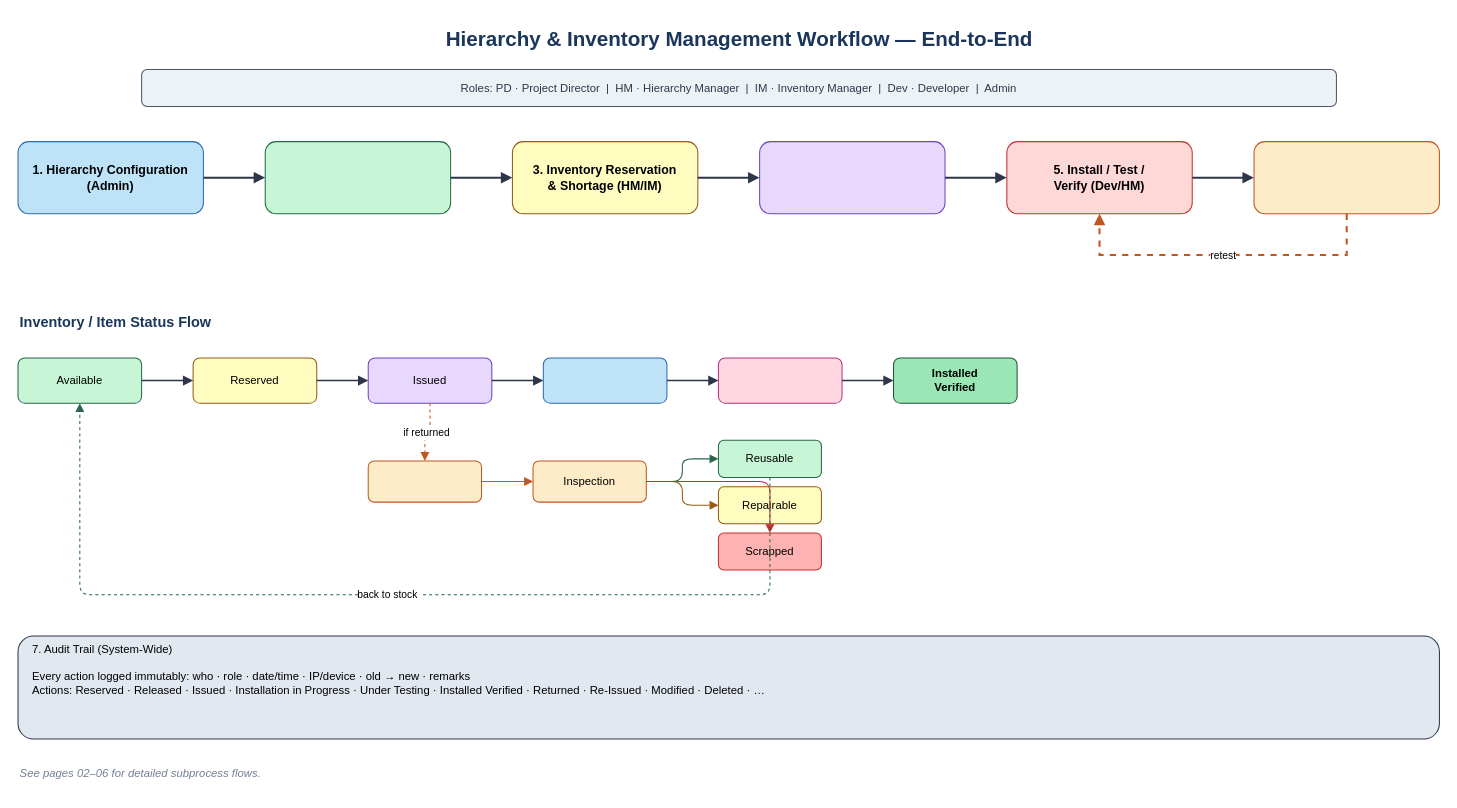
Image size: 1457x808. Some labels were removed from this diagram. The centre of each missing label's shape, as x and y in pixels:
2. Project Create & Approval (PD/HM/Admin): (357,177)
4. Issue to Developer (HM/Dev/IM): (852,177)
6. Defect / Rework or Recall: (1346,177)
Installation in Progress: (604,380)
Returned: (424,481)
Under Testing / Review: (779,380)
